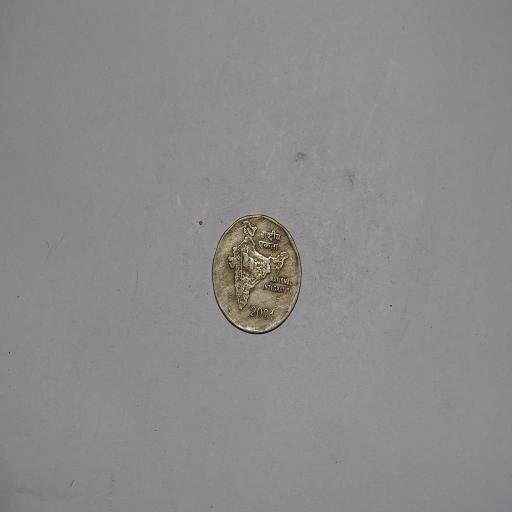rupee1: (190, 198, 484, 350)
rupee2: (208, 212, 303, 338)
